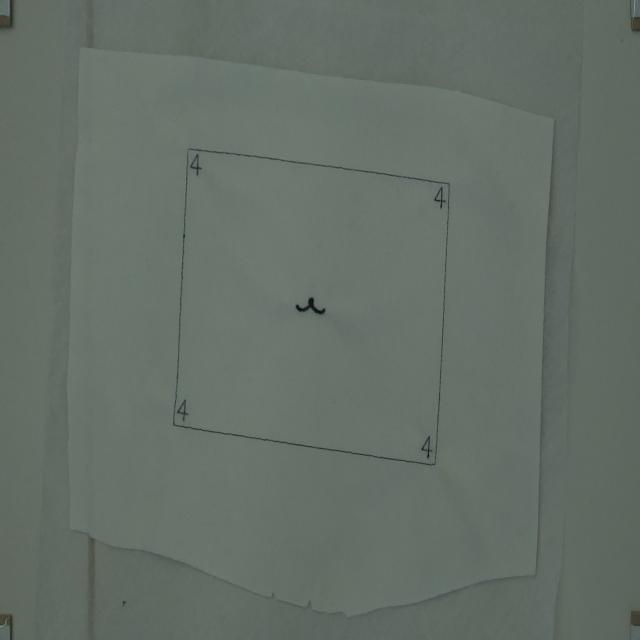4 -: (175, 395, 190, 425), (433, 184, 447, 211), (190, 151, 203, 178), (419, 434, 433, 459)
